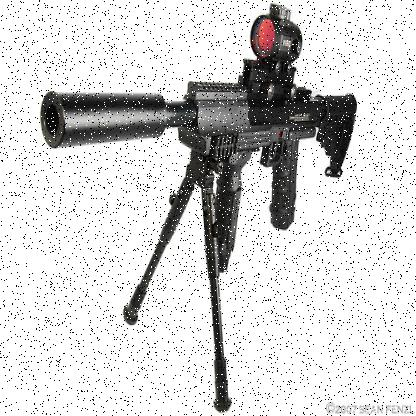pistol: (180, 66, 317, 255)
